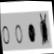correct: (27, 22, 37, 45)
not correct: (38, 11, 50, 48)
